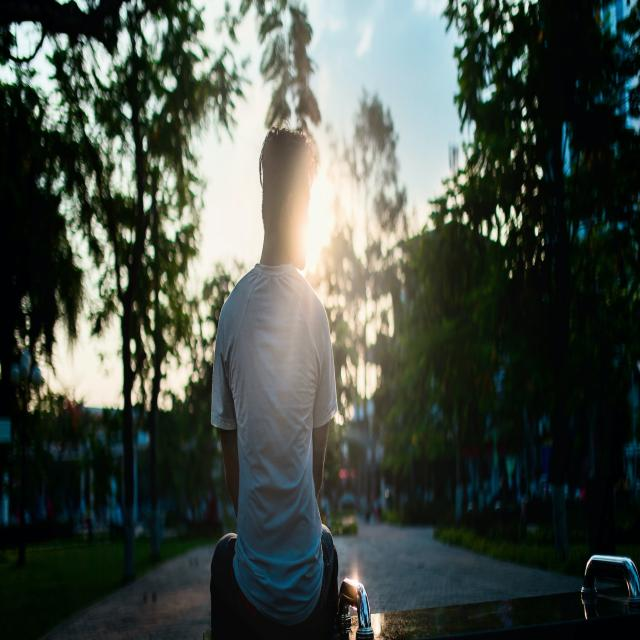adult: (217, 118, 335, 638)
